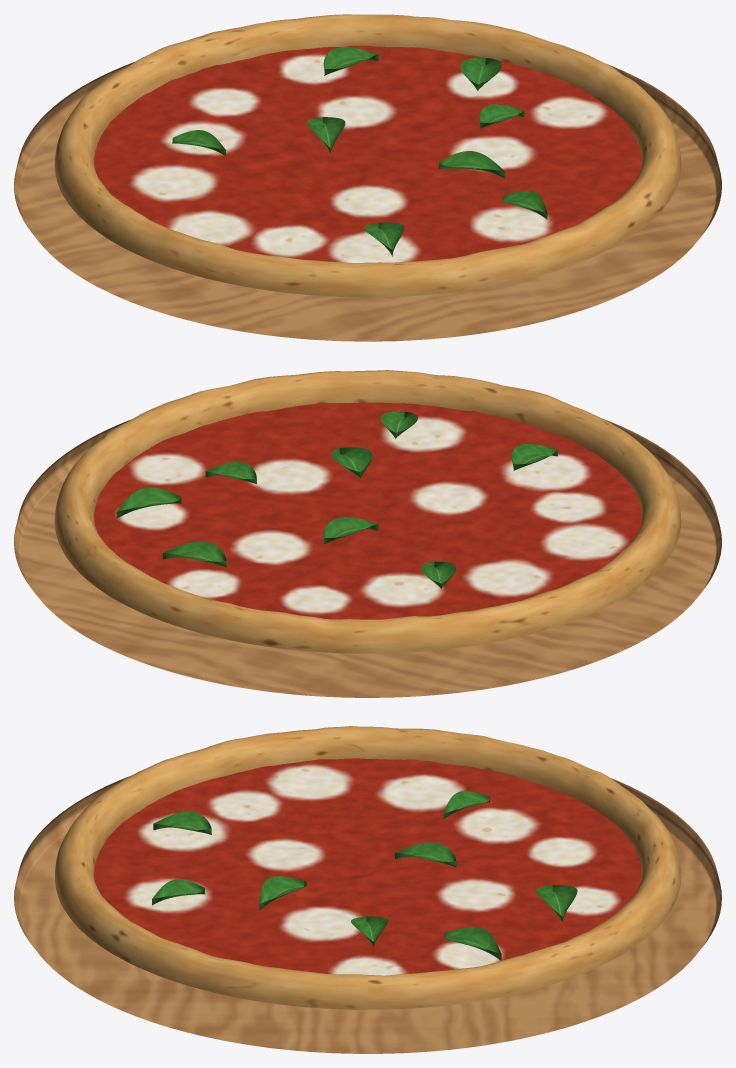
The model's file is pizza-margherita.glb.
3 renders of one model, top to bottom at view 1: azimuth 30°, elevation 25°; view 2: azimuth 150°, elevation 25°; view 3: azimuth 270°, elevation 25°, orthographic.
Parts seen in each view (by area): view 1: pizza-margherita; view 2: pizza-margherita; view 3: pizza-margherita.
Boxes of the visible parts, x1=… form: pizza-margherita: x1=14, y1=14, x2=721, y2=341; pizza-margherita: x1=14, y1=370, x2=721, y2=697; pizza-margherita: x1=14, y1=726, x2=721, y2=1053.
Size of the model in its own units: 0.432 by 0.0398 by 0.432.
4 materials, 4 textured.
